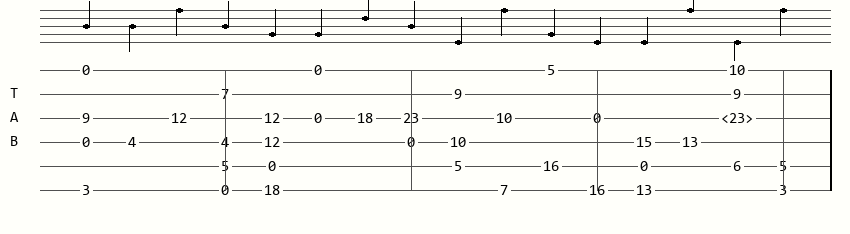0: (82, 63, 94, 77), (82, 135, 94, 149), (221, 183, 233, 197), (268, 159, 280, 173), (314, 111, 326, 125), (314, 63, 326, 77), (407, 135, 419, 149), (593, 111, 605, 125), (640, 159, 652, 173)
10: (450, 135, 470, 149), (496, 111, 516, 125), (729, 63, 749, 77)
12: (171, 111, 191, 125), (264, 135, 284, 149), (264, 111, 284, 125)
13: (636, 183, 656, 197), (682, 135, 702, 149)
15: (636, 135, 656, 149)
16: (543, 159, 563, 173), (589, 183, 609, 197)
18: (264, 183, 284, 197), (357, 111, 377, 125)
23: (403, 111, 423, 125)
3: (82, 183, 94, 197), (779, 183, 791, 197)
4: (128, 135, 140, 149), (221, 135, 233, 149)
5: (221, 159, 233, 173), (454, 159, 466, 173), (547, 63, 559, 77), (779, 159, 791, 173)
6: (733, 159, 745, 173)
7: (221, 87, 233, 101), (500, 183, 512, 197)
9: (82, 111, 94, 125), (454, 87, 466, 101), (733, 87, 745, 101)
harmonic: (721, 111, 757, 125)
